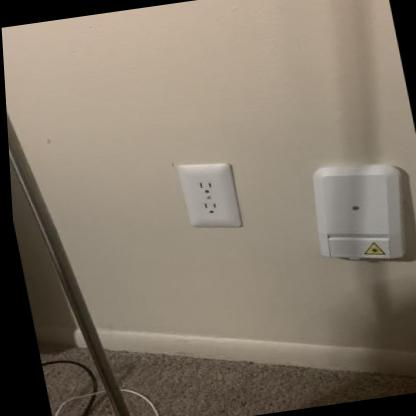OUTLET: (177, 156, 245, 233)
